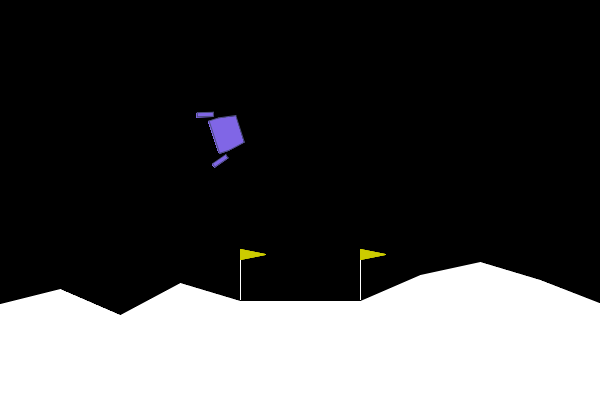lander: (194, 100, 251, 169)
